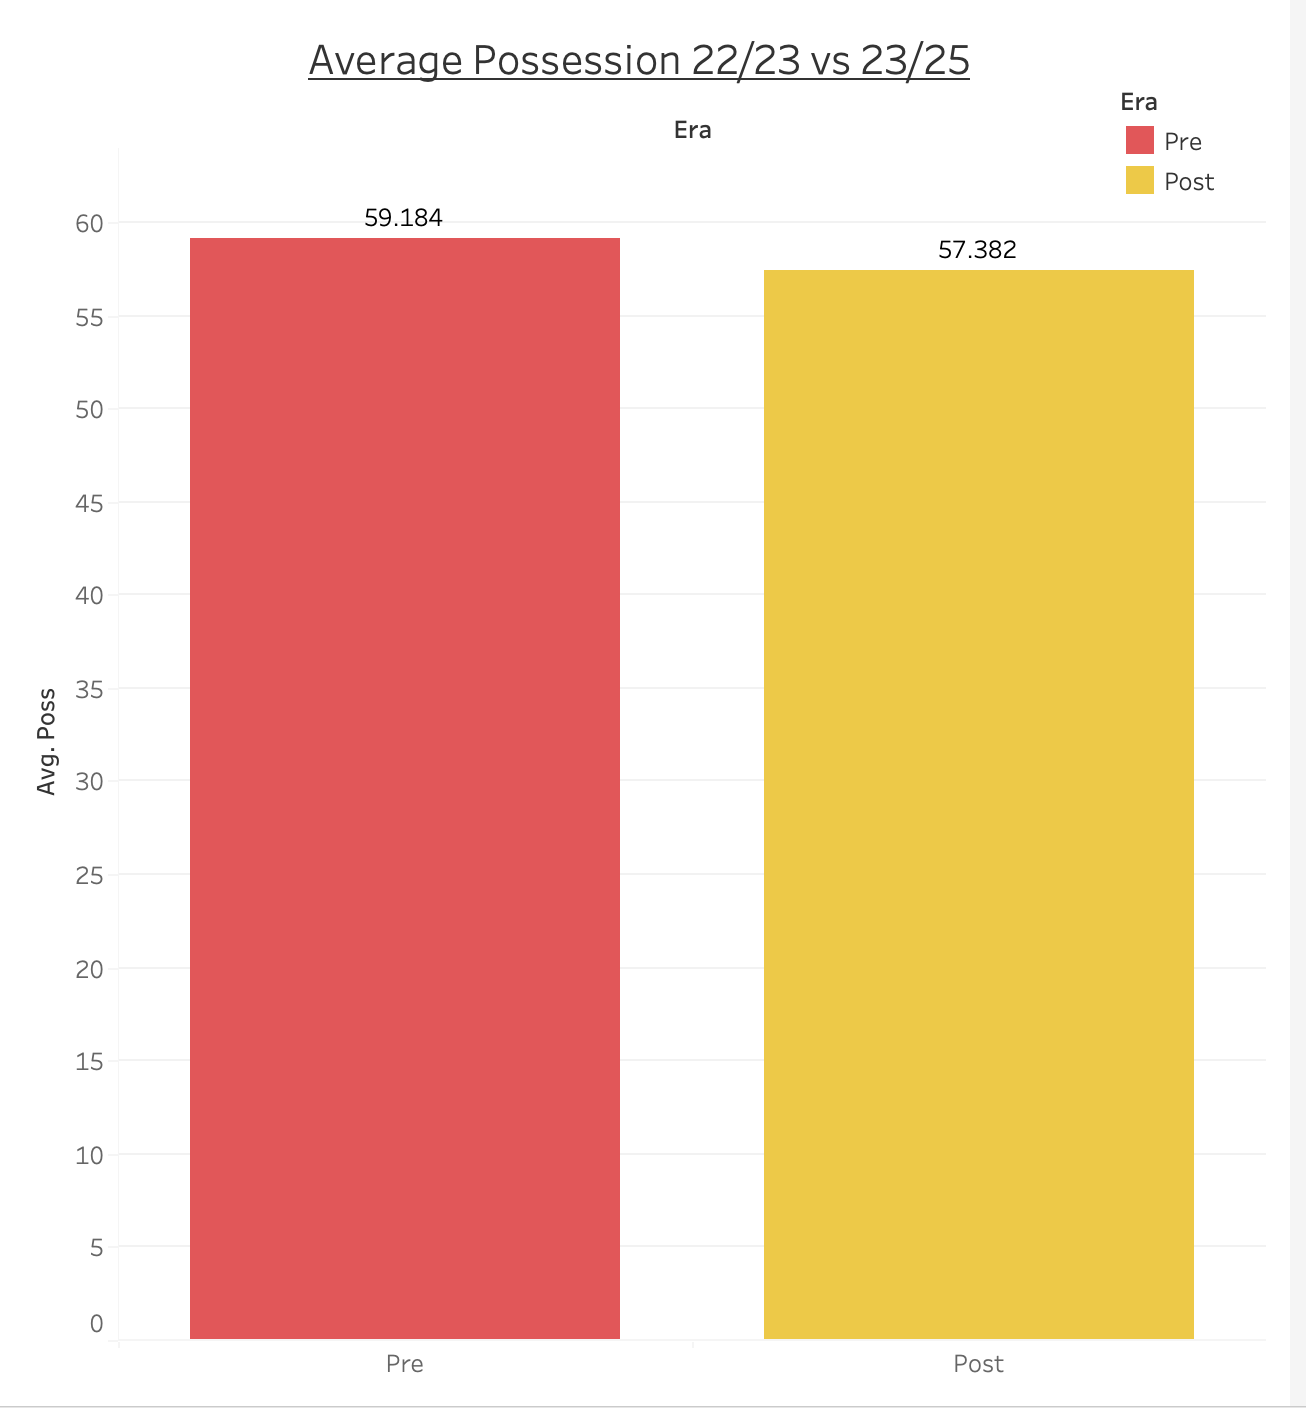

The dashboard page shown, as its layout file describes it:
{"tool":"tableau","page":{"name":"Dashboard 2","canvas":[650,860],"ordinal":1},"visuals":[{"type":"worksheet","title":"Average Possession 22/23 vs 23/25","mark":"Automatic","rows":["Poss"],"cols":["era"],"box":[8,9.8,634,840.5]}]}

Visuals, with their boxes on the page's 650x860 design canvas (x1, y1, x2, y2). These are canvas units, not pixel positions in the 1306x1408 screenshot, which may show the page scaled, cropped or inside an application window:
"Average Possession 22/23 vs 23/25" worksheet: region(8, 10, 642, 850)
